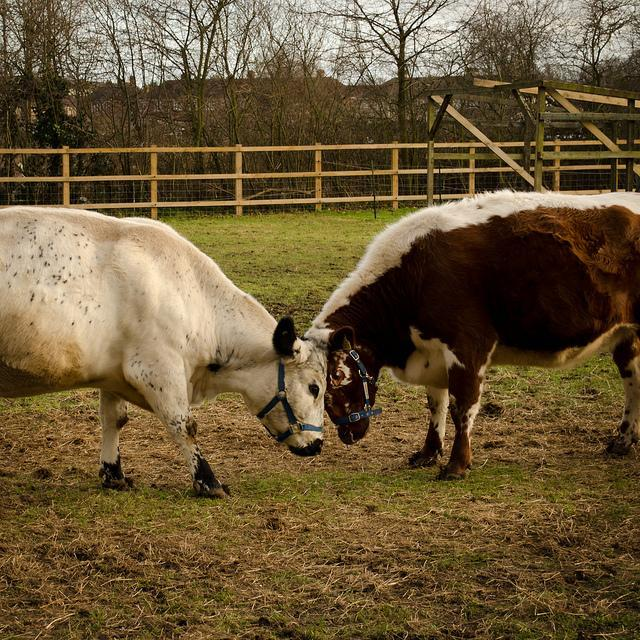cow: (304, 179, 639, 487), (0, 203, 326, 497)
